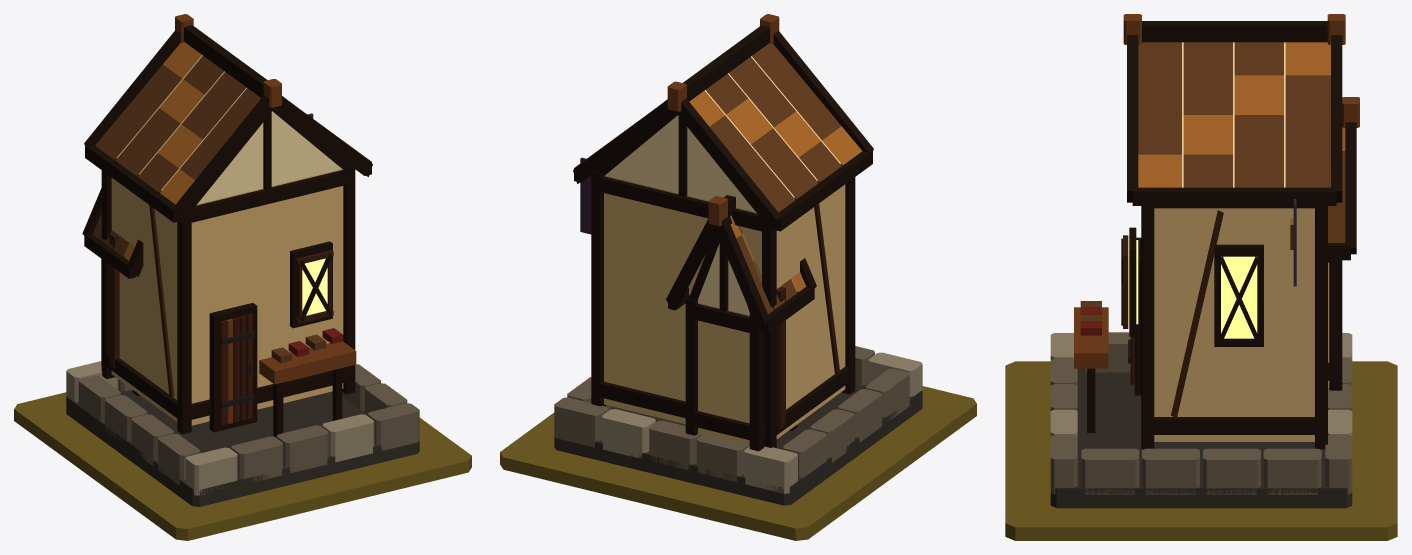
The model's file is scriptorium_t5.glb.
3 renders of one model, left to right at view 1: azimuth 30°, elevation 25°; view 2: azimuth 150°, elevation 25°; view 3: azimuth 270°, elevation 25°, orthographic. The views are drawn at different scales.
Parts seen in each view (by area): view 1: MMR | scriptorium | T05 Architecture.001, MMR | scriptorium | Tier 05 Ground.001; view 2: MMR | scriptorium | T05 Architecture.001, MMR | scriptorium | Tier 05 Ground.001, MMR | scriptorium | T05 Banner Flag 1.001; view 3: MMR | scriptorium | T05 Architecture.001, MMR | scriptorium | Tier 05 Ground.001.
Part boxes in pixels (<box>): MMR | scriptorium | T05 Architecture.001: <box>66,14,419,506</box>; MMR | scriptorium | Tier 05 Ground.001: <box>14,392,471,540</box>; MMR | scriptorium | T05 Architecture.001: <box>554,14,922,505</box>; MMR | scriptorium | Tier 05 Ground.001: <box>500,386,976,540</box>; MMR | scriptorium | T05 Banner Flag 1.001: <box>580,157,591,234</box>; MMR | scriptorium | T05 Architecture.001: <box>1050,14,1359,508</box>; MMR | scriptorium | Tier 05 Ground.001: <box>1005,361,1397,540</box>.
Size of the model in its own units: 1.3 by 1.61 by 1.3.
2 materials, 1 textured.
